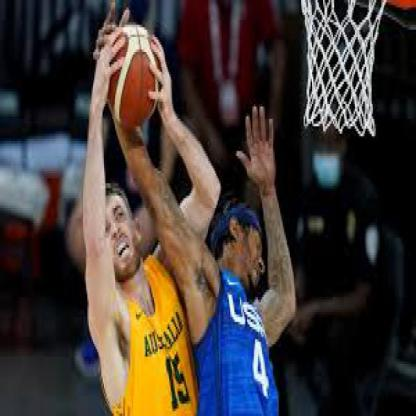basketball: (104, 22, 160, 126)
